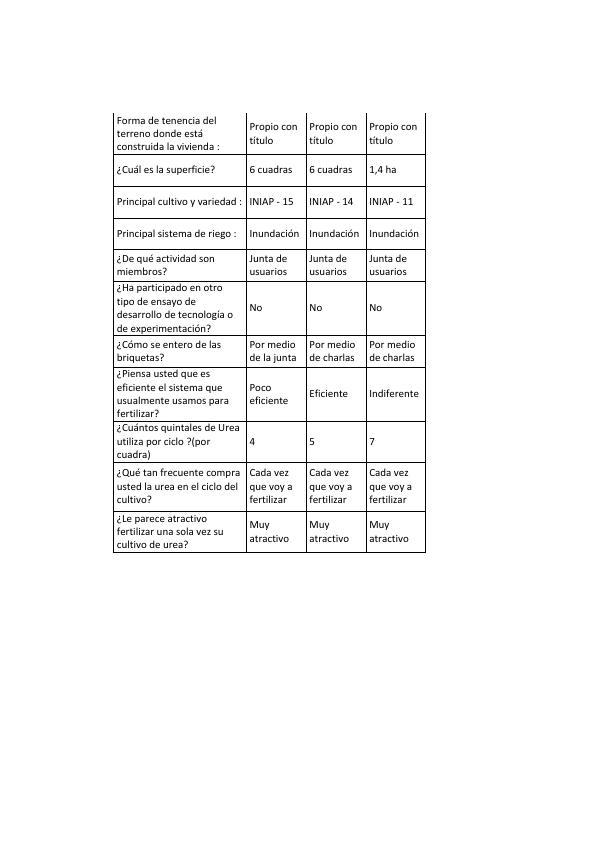table: (110, 111, 431, 558)
